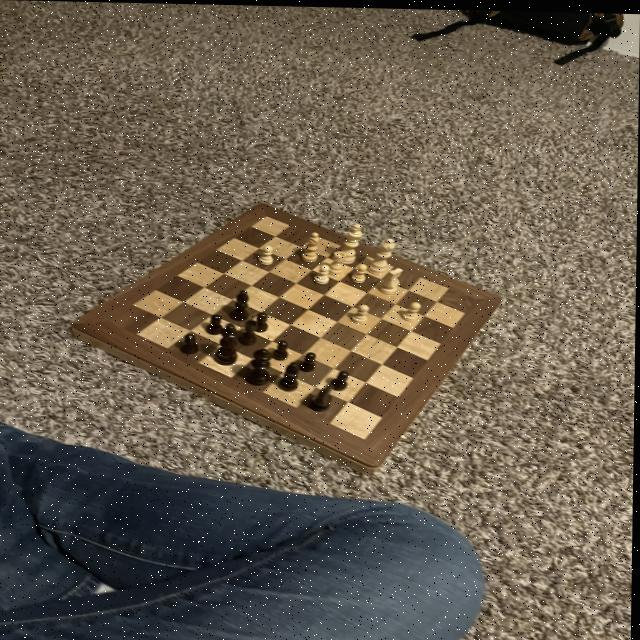bishop: (275, 359, 304, 393), (231, 287, 252, 321)
black-bishop: (212, 322, 241, 366)
black-king: (309, 382, 339, 412)
black-knight: (179, 332, 201, 356), (330, 368, 352, 389), (205, 312, 225, 335), (299, 349, 318, 372), (273, 338, 290, 360), (254, 310, 270, 331)
black-pawn: (244, 346, 276, 386)
black-queen: (234, 317, 261, 347)
black-rook: (300, 228, 321, 264)
white-bishop: (335, 220, 366, 264)
white-king: (380, 265, 405, 294)
white-knight: (350, 301, 373, 325), (402, 299, 424, 320), (312, 263, 333, 284), (351, 261, 369, 282), (257, 244, 275, 264)
white-pawn: (367, 235, 398, 274)
white-queen: (327, 247, 348, 276)
